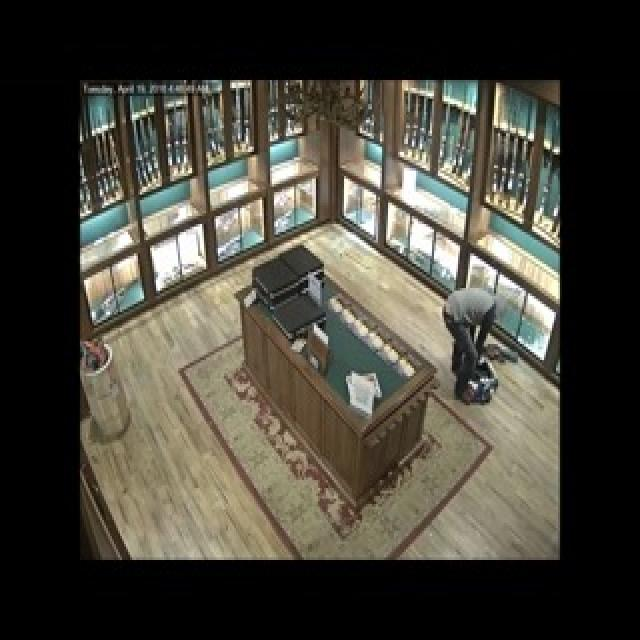thief: (446, 278, 502, 387)
